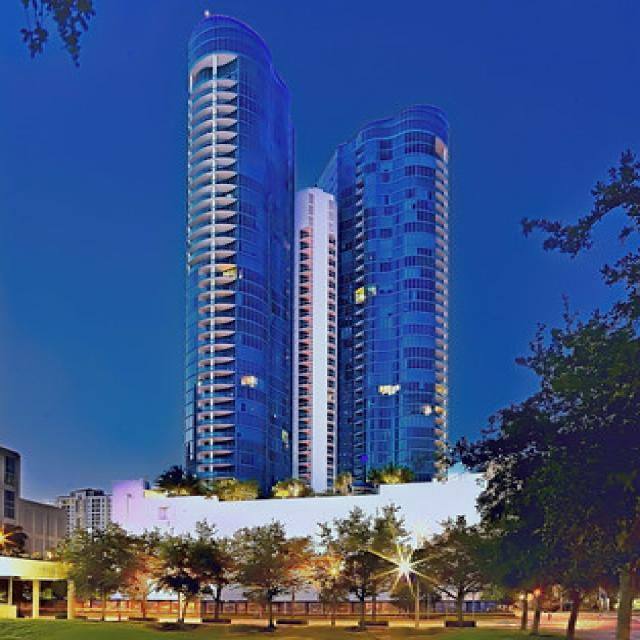Normal_building: (185, 7, 296, 500), (321, 102, 454, 496), (294, 183, 338, 502)
